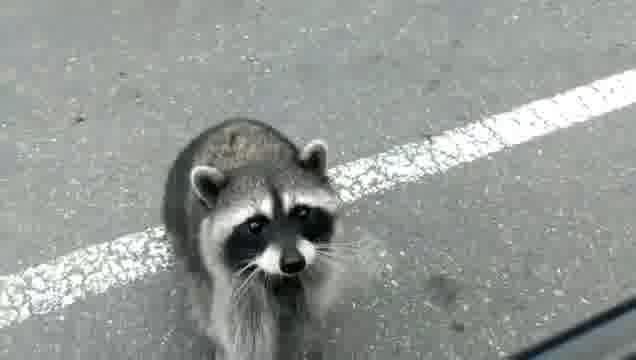raccoon: (161, 115, 357, 360)
